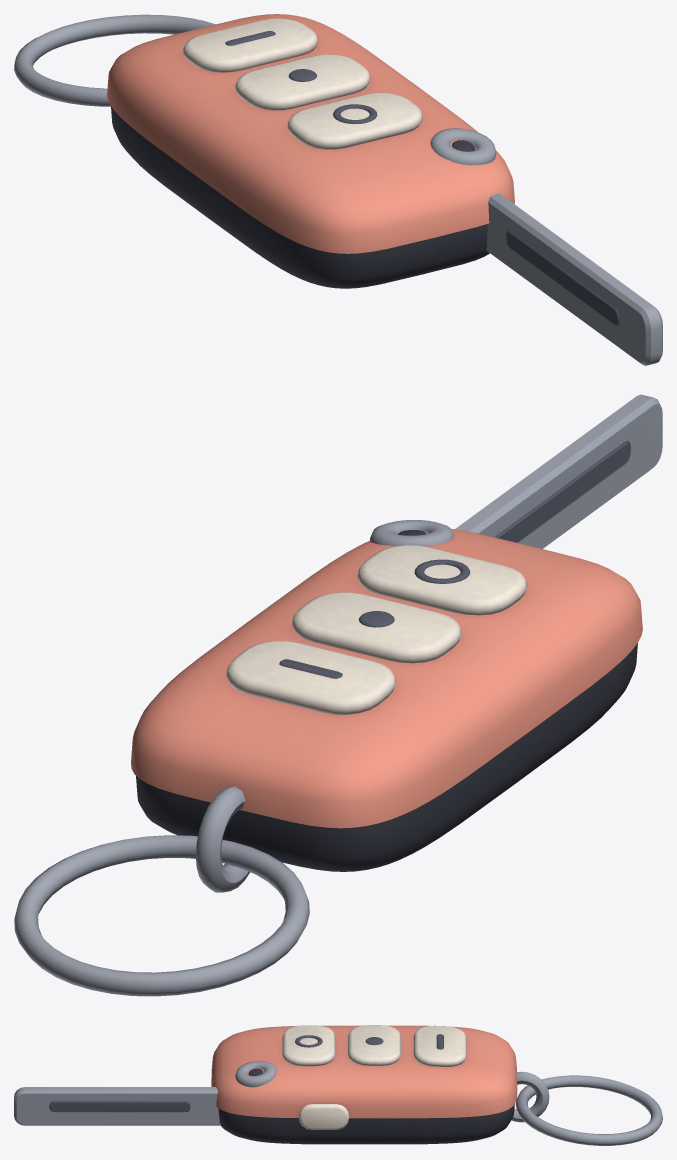
The model's file is car-key-fob.glb.
3 views of the same model, one above another, from view 1: azimuth 30°, elevation 25°; view 2: azimuth 150°, elevation 25°; view 3: azimuth 270°, elevation 25° (orthographic). The views are drawn at different scales.
Visible parts, largest first — view 1: car-key-fob_body, car-key-fob_blade; view 2: car-key-fob_body, car-key-fob_blade; view 3: car-key-fob_body, car-key-fob_blade.
Boxes of the visible parts, x1,y1,x2,y2 form: car-key-fob_body: (14,14,514,288); car-key-fob_blade: (486,193,662,365); car-key-fob_body: (14,520,642,996); car-key-fob_blade: (455,394,662,548); car-key-fob_body: (211,1025,662,1145); car-key-fob_blade: (14,1087,220,1125).
Size of the model in its own units: 0.0339 by 0.018 by 0.1287.
2 materials, 2 textured.
